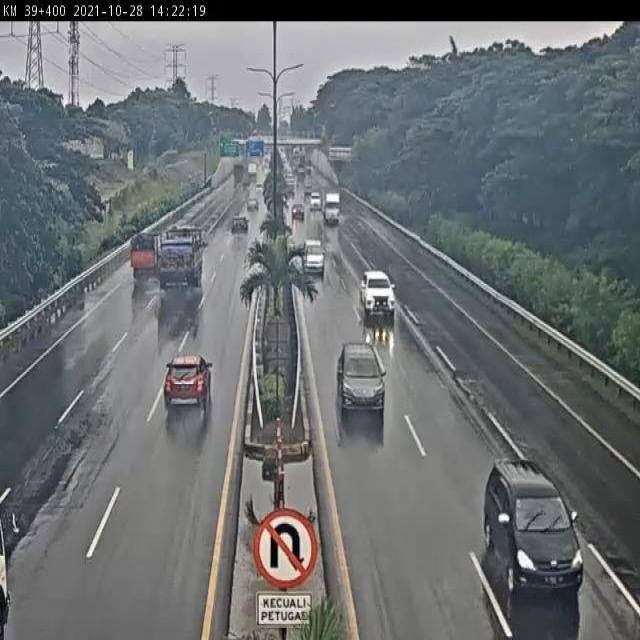car: (484, 456, 585, 597), (336, 342, 385, 418), (164, 355, 214, 412), (359, 269, 397, 320), (300, 237, 327, 275), (229, 215, 248, 236)
truck-l-: (153, 224, 206, 289)
truck-s-: (128, 230, 163, 274)
